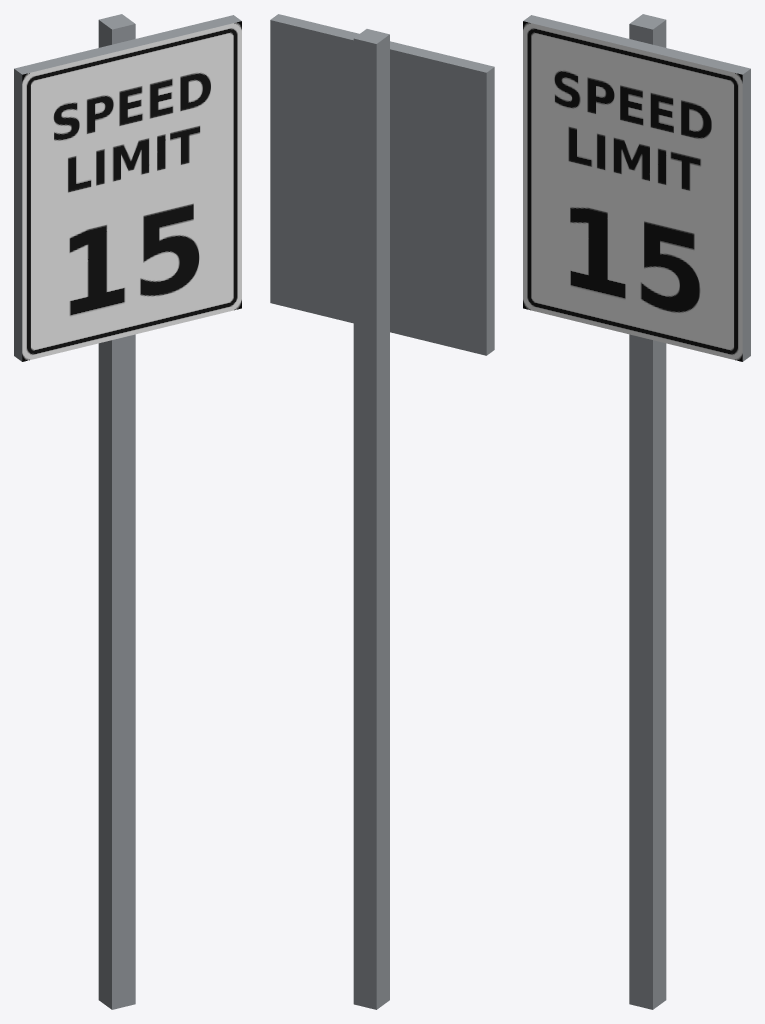
Rendered from us_speed15.dae.
3 views of the same model, side by side, from view 1: azimuth 30°, elevation 25°; view 2: azimuth 150°, elevation 25°; view 3: azimuth 330°, elevation 25° (orthographic).
Parts seen in each view (by area): view 1: sign4, Colmesh-1; view 2: Colmesh-1, sign4; view 3: sign4, Colmesh-1.
Part boxes in pixels (left/top/right/bottom): sign4: left=22, top=14, right=241, bottom=1009; Colmesh-1: left=14, top=15, right=241, bottom=361; Colmesh-1: left=270, top=14, right=494, bottom=355; sign4: left=353, top=29, right=389, bottom=1009; sign4: left=523, top=14, right=742, bottom=1009; Colmesh-1: left=523, top=15, right=750, bottom=361.
Size of the model in its own units: 0.6096 by 0.105 by 2.6.
2 materials, 1 textured.
